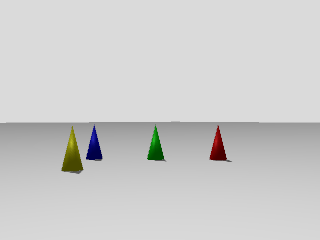blue: (85, 121, 103, 161)
green: (146, 123, 164, 161)
red: (208, 122, 228, 161)
yellow: (59, 125, 85, 173)
